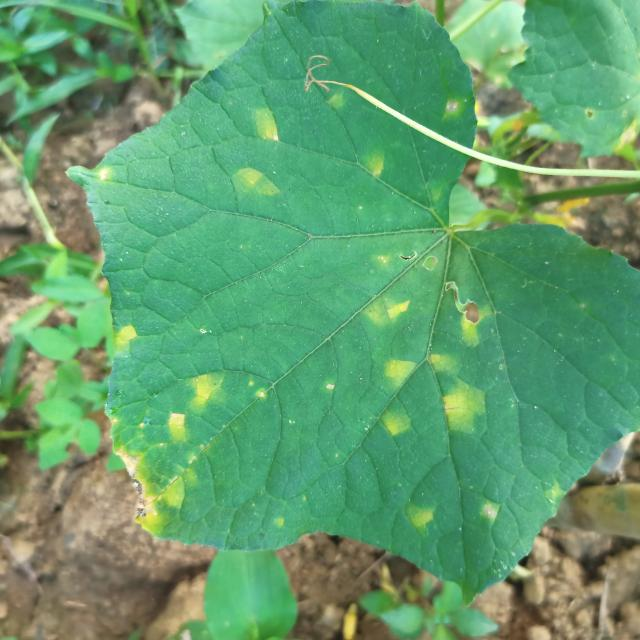disease_cucumber: (362, 239, 498, 462), (113, 370, 226, 538), (232, 104, 290, 204), (360, 143, 399, 188), (405, 493, 440, 538), (106, 317, 134, 361)
